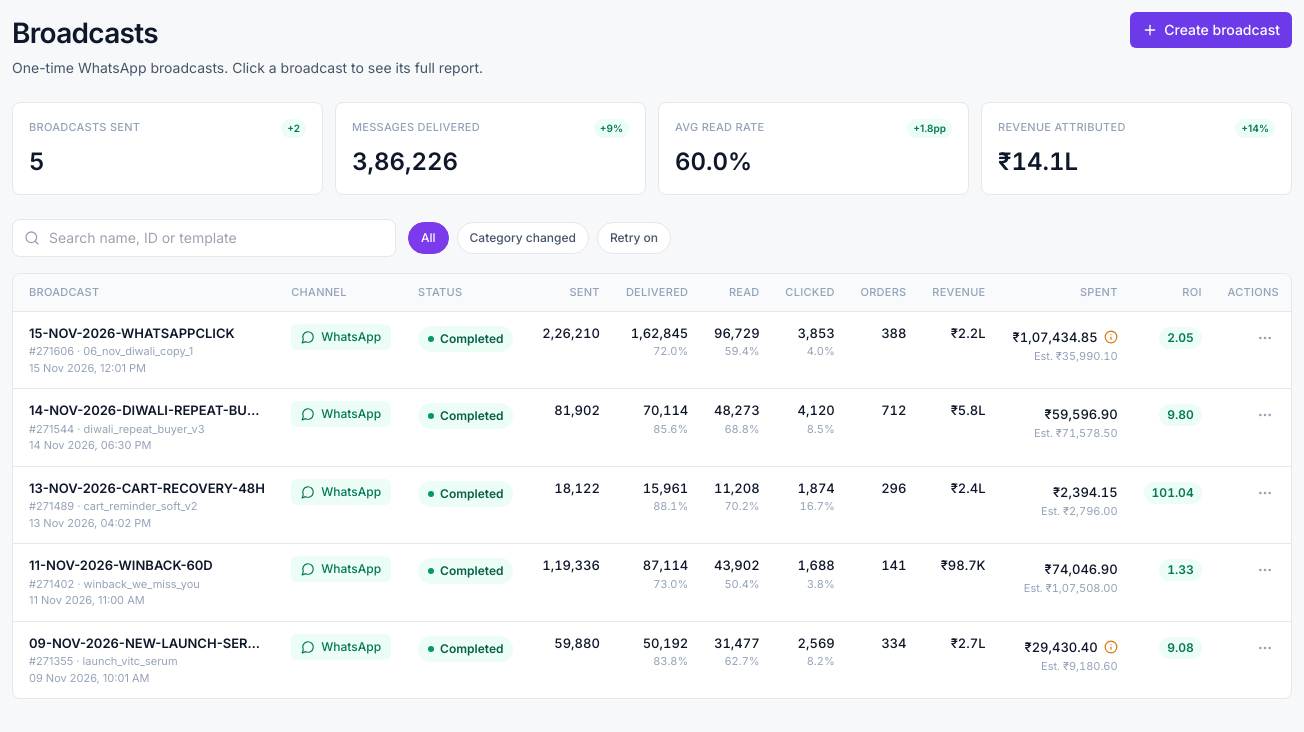
BroadcastsPage › shows a spent info icon only for category-changed broadcasts, revealing the Utility/Marketing split
Later steps or results of the test are not shown.
Expected: the cell with test id "broadcasts-spent-271606" shows "₹1,07,434.85", [1013,328,1098,344]
Expected: the button with test id "broadcasts-spent-info-271355" is shown, [1104,640,1118,654]
Focus the button with test id "broadcasts-spent-info-271606" at (1111, 337), box [1104,330,1118,344]
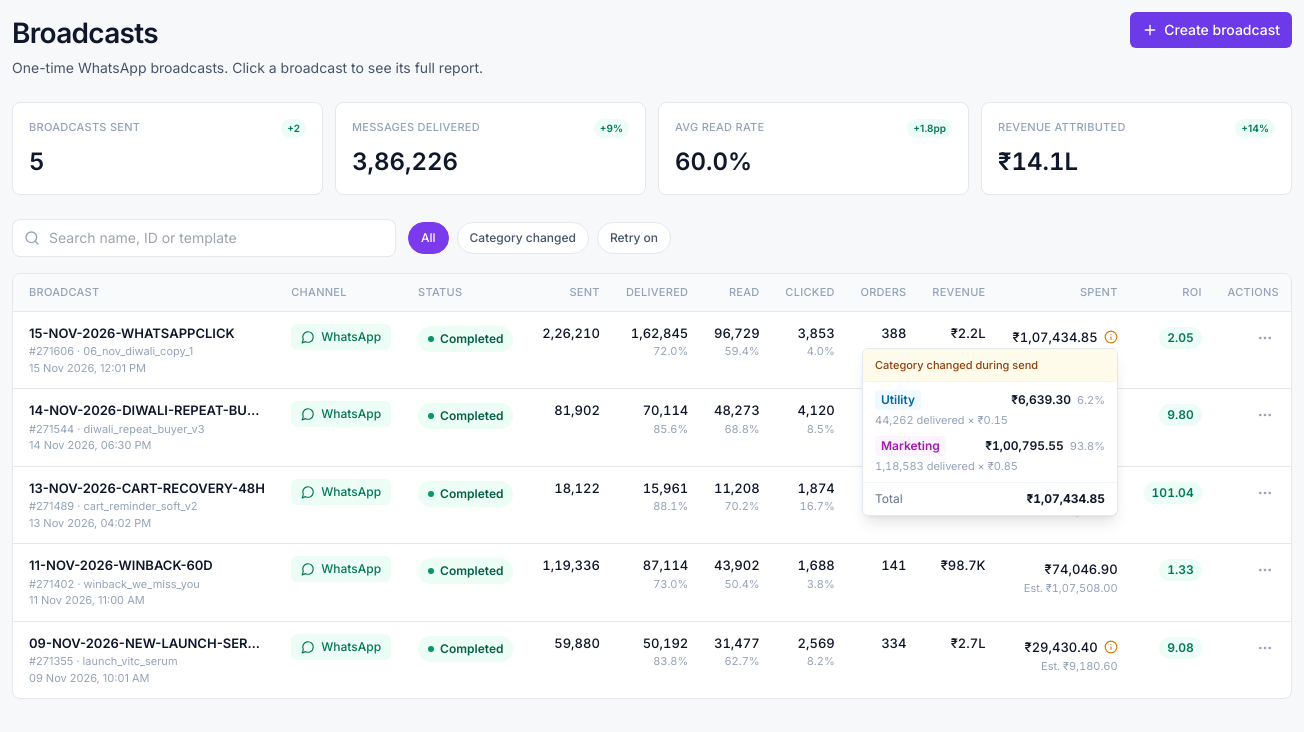
Result: the element with test id "broadcasts-spent-split-271606" shows "₹6,639.30" at [1011,392,1071,407]
Result: the element with test id "broadcasts-spent-split-271606" shows "₹1,00,795.55" at [985,438,1064,453]
Result: the text with test id "broadcasts-spent-share-271606-utility" reads "6.2%" at [1077,393,1105,407]
